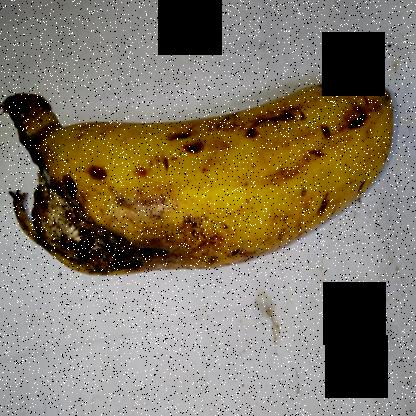ripe: (138, 66, 406, 296)
rotten: (7, 116, 172, 313)
